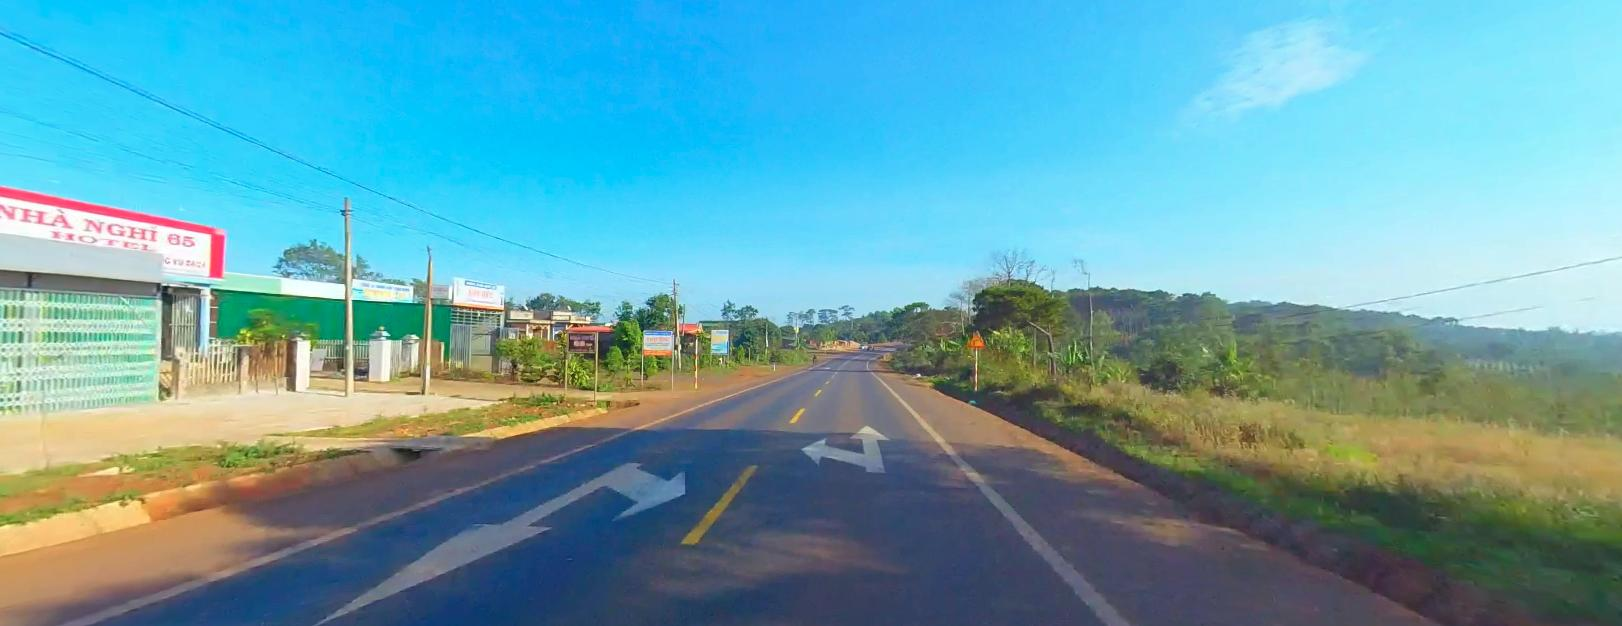Nguy hiem: (966, 331, 984, 345)
